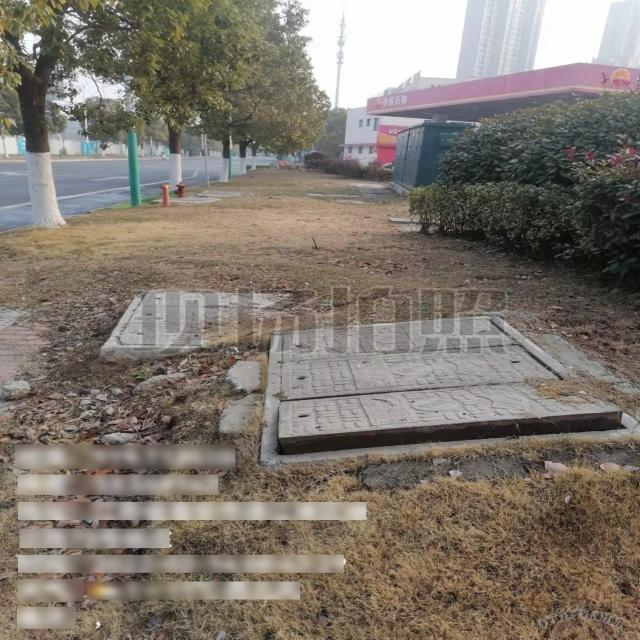Good: (98, 287, 299, 363)
Lose: (260, 316, 640, 466)
